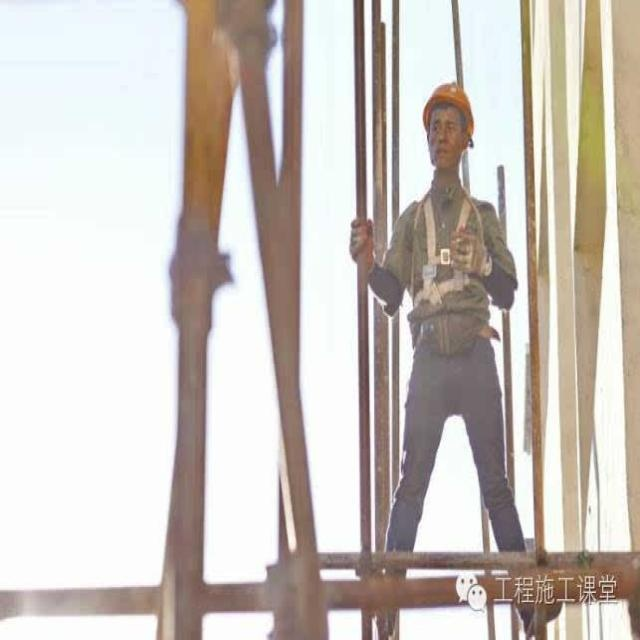Arnes_seguridad: (411, 186, 489, 308)
